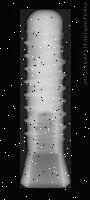Keystone Dental: (20, 9, 71, 188)
